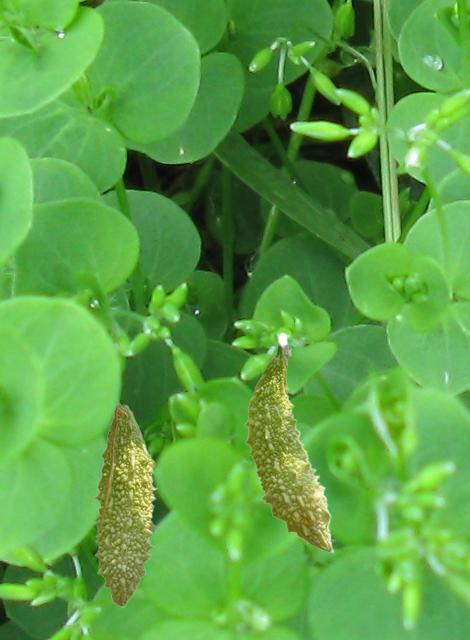ampalaya: (243, 332, 334, 554), (92, 402, 158, 608)
